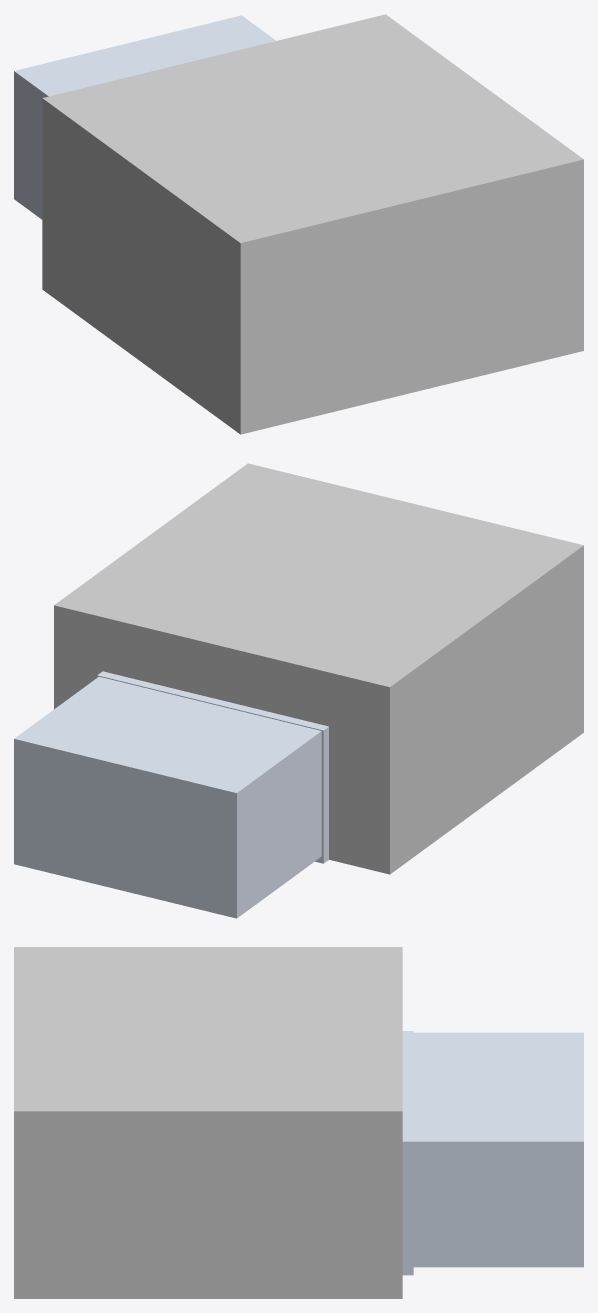
Rendered from Bank.fbx.
The picture shows the model from 3 angles, top to bottom: view 1: azimuth 30°, elevation 25°; view 2: azimuth 150°, elevation 25°; view 3: azimuth 270°, elevation 25°; orthographic projection. The views are drawn at different scales.
Parts seen in each view (by area): view 1: Cube.015, Cube; view 2: Cube.015, Cube, Cube.001; view 3: Cube.015, Cube, Cube.001.
Boxes of the visible parts, x1,y1,x2,y2 form: Cube.015: [42, 14, 583, 434]; Cube: [14, 15, 276, 219]; Cube.015: [54, 463, 583, 874]; Cube: [14, 676, 321, 918]; Cube.001: [97, 671, 328, 863]; Cube.015: [14, 947, 402, 1298]; Cube: [413, 1032, 583, 1267]; Cube.001: [402, 1031, 413, 1275].
Bounding box in the file's own units: 968 × 516 × 1420.
